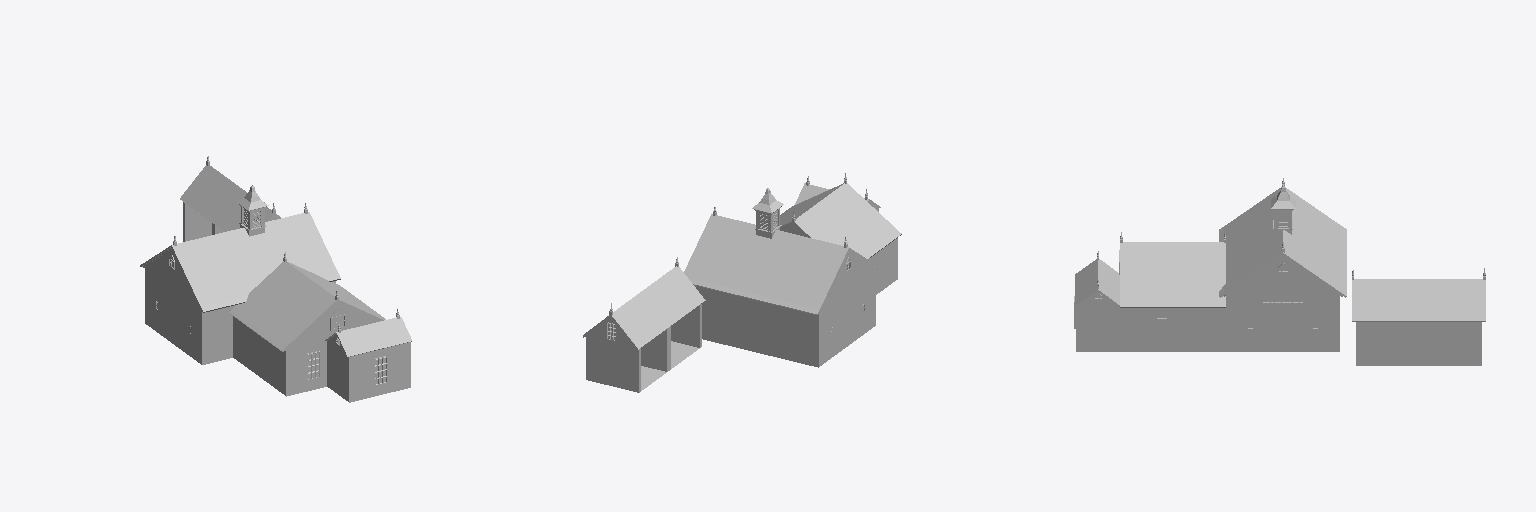
Rendered from hastings_farm.obj.
3 renders of one model, left to right at view 1: azimuth 30°, elevation 25°; view 2: azimuth 150°, elevation 25°; view 3: azimuth 270°, elevation 25°, orthographic.
Visible parts, largest first — view 1: Main_Building, LargeShed, SmallShed, Stables, Vestibule_Base1; view 2: Main_Building, Stables, LargeShed, Vestibule_Base1; view 3: Main_Building, LargeShed, Stables, SmallShed, Door_Front.
Part boxes in pixels (bbox=[...]): Main_Building: bbox=[140, 212, 340, 364]; LargeShed: bbox=[229, 252, 385, 396]; SmallShed: bbox=[325, 309, 411, 402]; Stables: bbox=[180, 156, 280, 241]; Vestibule_Base1: bbox=[239, 207, 265, 236]; Main_Building: bbox=[684, 214, 880, 367]; Stables: bbox=[583, 257, 705, 392]; LargeShed: bbox=[780, 173, 901, 294]; Vestibule_Base1: bbox=[754, 209, 781, 238]; Main_Building: bbox=[1219, 187, 1346, 351]; LargeShed: bbox=[1119, 232, 1225, 351]; Stables: bbox=[1352, 268, 1485, 365]; SmallShed: bbox=[1074, 251, 1166, 351]; Door_Front: bbox=[1262, 305, 1304, 351].
Bounding box in the file's own units: 20.99 × 16.95 × 45.19.